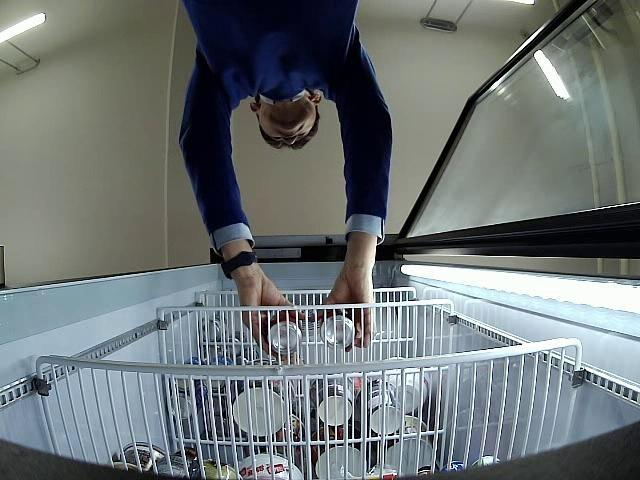11_cocaColaZero: (270, 313, 304, 354), (320, 311, 356, 349)
